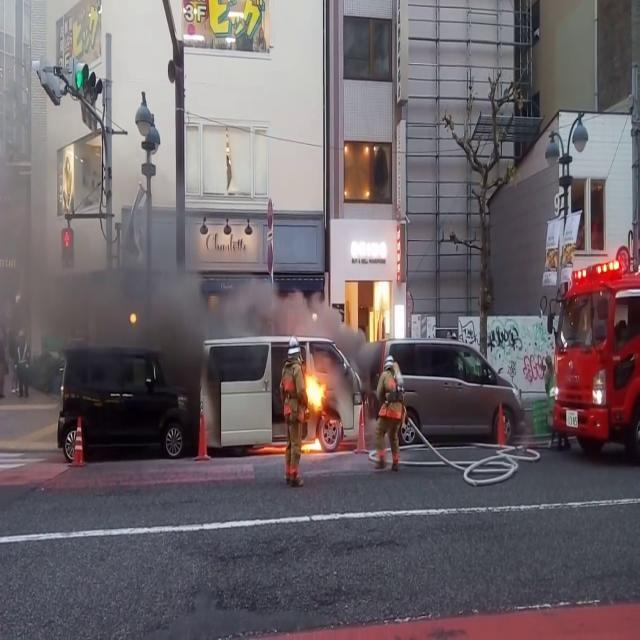Fire: (298, 363, 334, 453), (366, 266, 395, 338)
Smoke: (0, 188, 238, 382)
